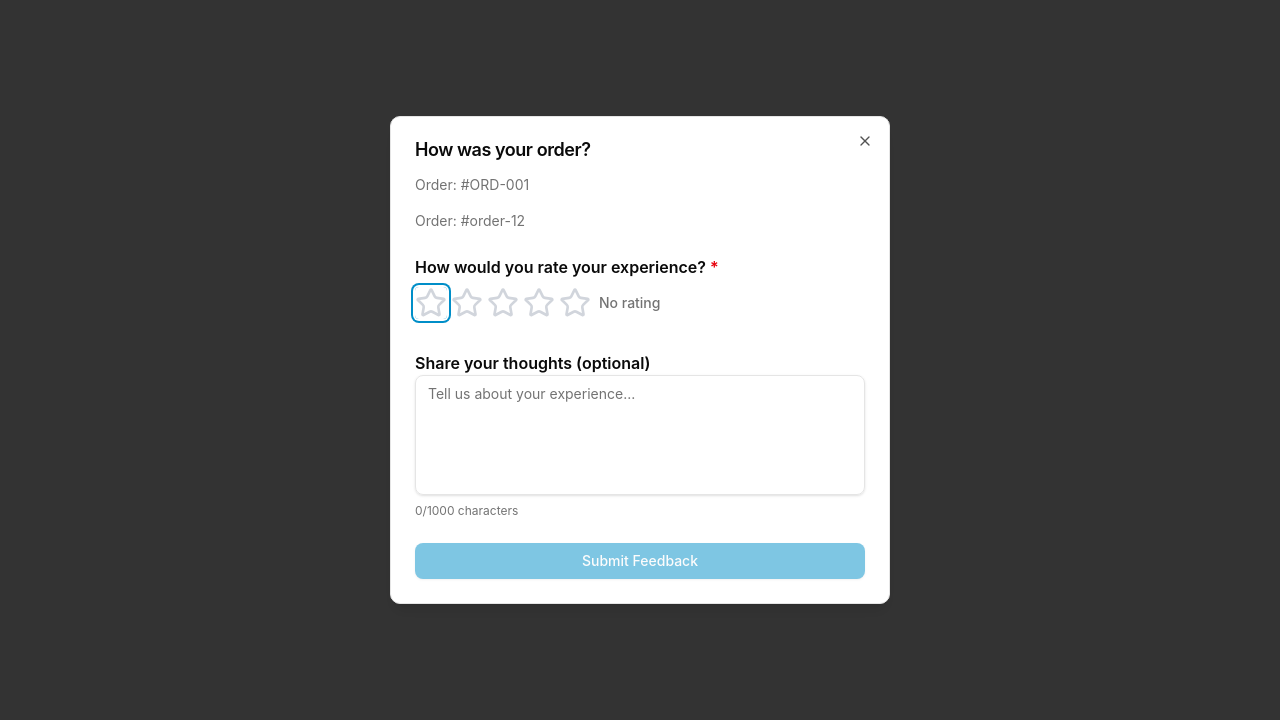
FeedbackPrompt › Dialog Variant › shows success message after submission
# Select rating
Click the button named "Rate 5 out of 5 stars" at [575, 303], box [559,287,591,319]
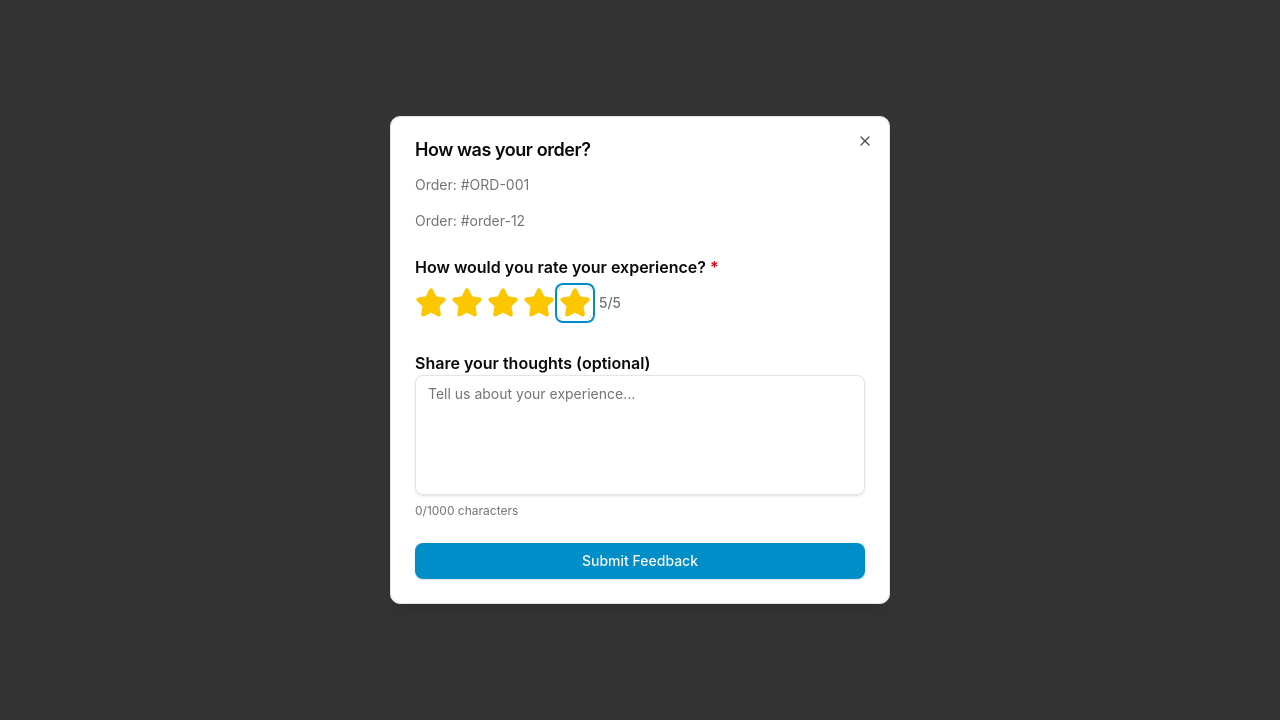
# Submit form
Click the button "Submit Feedback" at [640, 561], box [415,543,865,579]
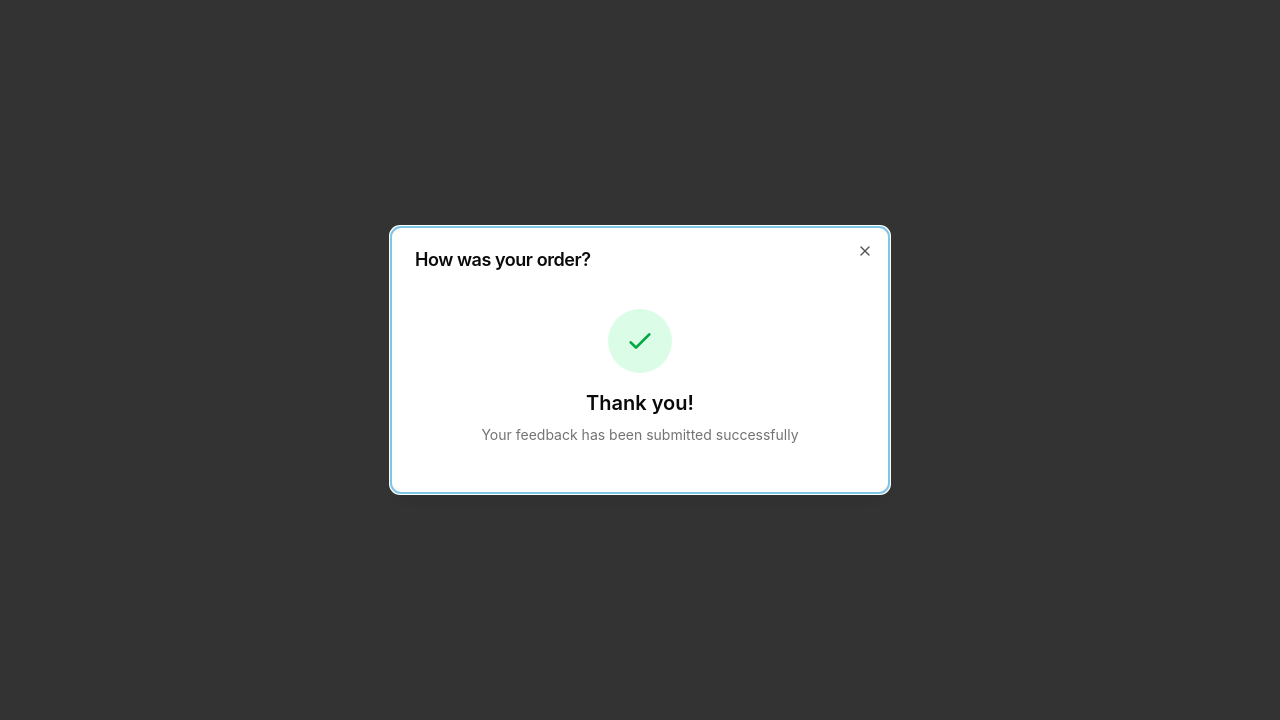
Now the heading "Thank you!" is shown, box [586,391,694,415]
Now the text "Your feedback has been submitted successfully" is shown, box [481,426,798,443]
